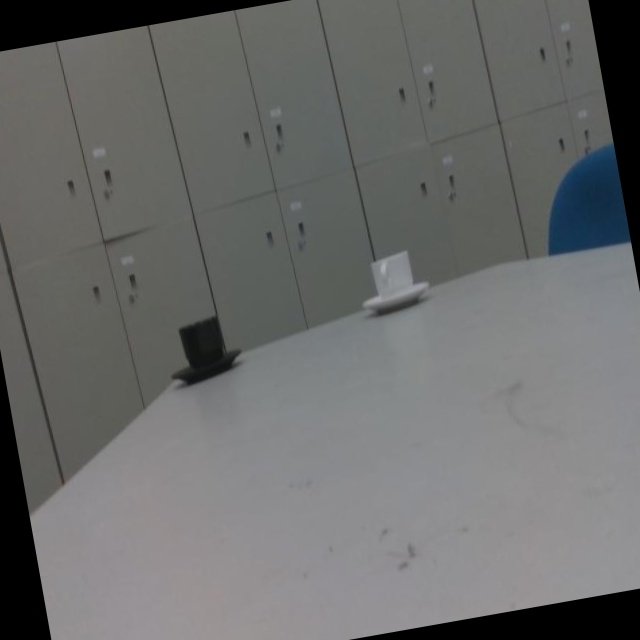black: (164, 316, 242, 383)
white: (358, 250, 430, 314)
